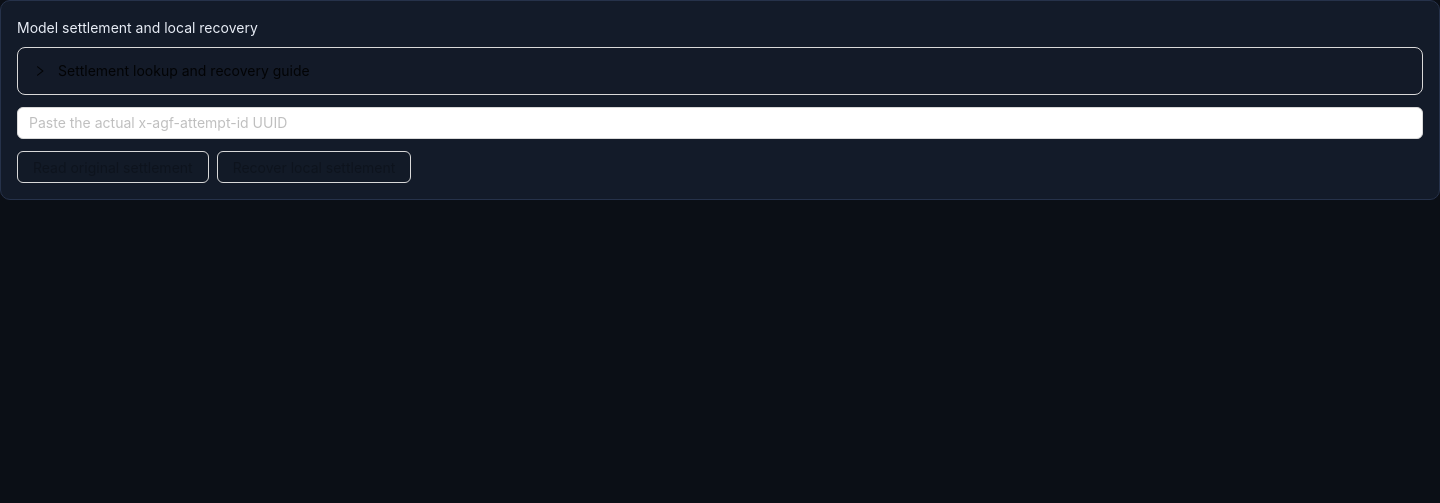
Test: distinguishes a terminal failure audit from success and unsent components from unknown charges
Type "957a5c39-28a3-4a45-a830-6855f4763730" into the field named "Original model attempt ID" at point(720, 123), box top-left (17, 107), bottom-right (1423, 139)
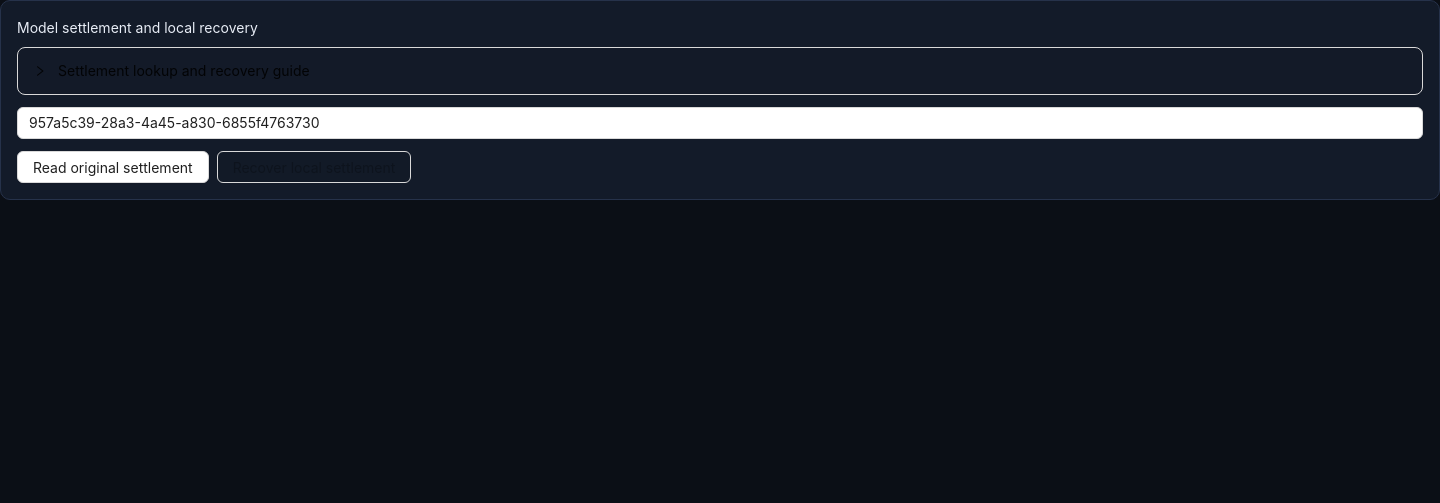
Click the button "Read original settlement" at point(113, 167), box top-left (17, 151), bottom-right (209, 183)
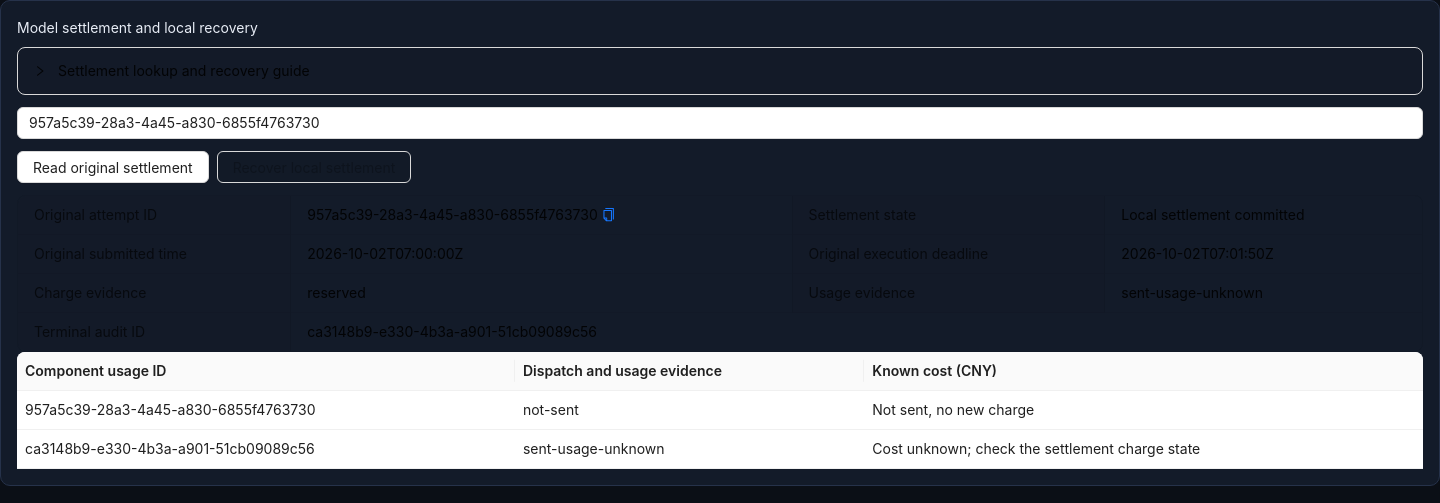
Check: the text "Local settlement committed" is shown, box top-left (1121, 206), bottom-right (1304, 223)
Check: the text "Not sent, no new charge" is shown, box top-left (864, 391), bottom-right (1423, 430)
Check: the text "Cost unknown; check the settlement charge state" is shown, box top-left (864, 430), bottom-right (1423, 469)
